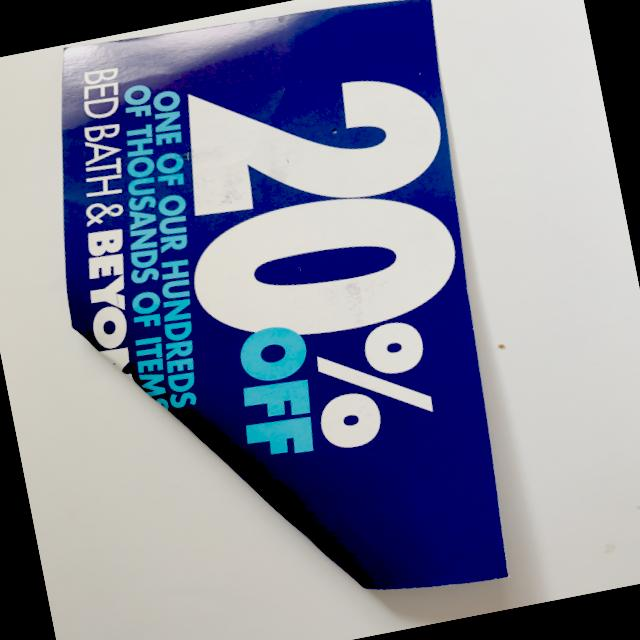Paper: (3, 0, 570, 640)
